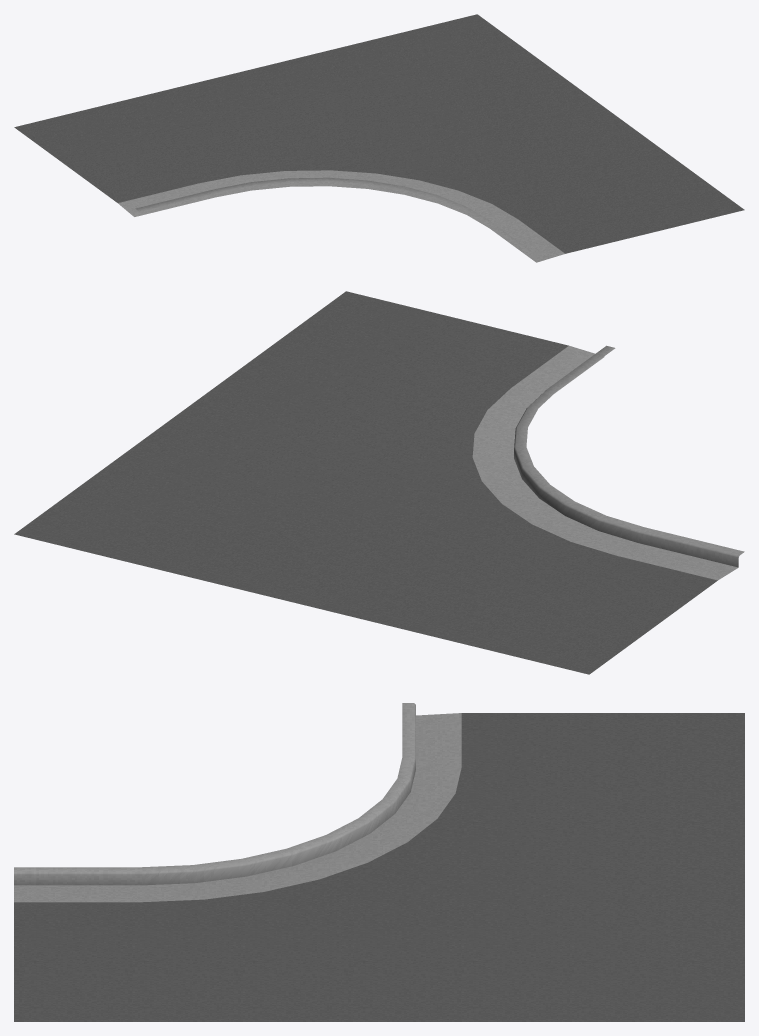
File: Junction1_Road.glb
3 views of the same model, one above another, from view 1: azimuth 30°, elevation 25°; view 2: azimuth 150°, elevation 25°; view 3: azimuth 270°, elevation 25° (orthographic). The views are drawn at different scales.
Parts seen in each view (by area): view 1: Junction3-Road; view 2: Junction3-Road; view 3: Junction3-Road.
Boxes of the visible parts, x1,y1,x2,y2 form: Junction3-Road: (14,14,744,262); Junction3-Road: (14,291,744,674); Junction3-Road: (14,703,744,1021).
Bounding box in the file's own units: 8 × 0.15 × 8.
5 materials, 5 textured.
